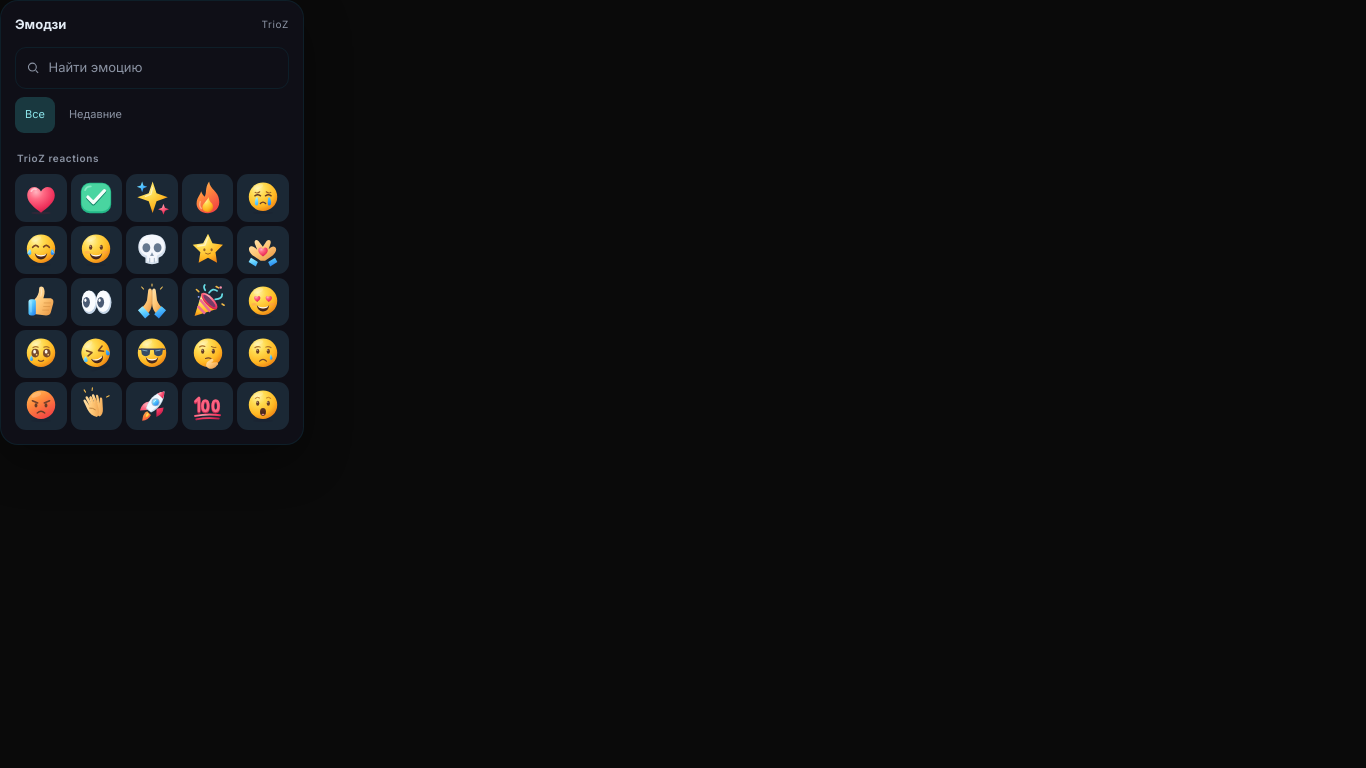
Test: shared searchable picker › can clear recents
Step 1. Click the button "Недавние" → click(95, 114), box left=59, top=96, right=132, bottom=132
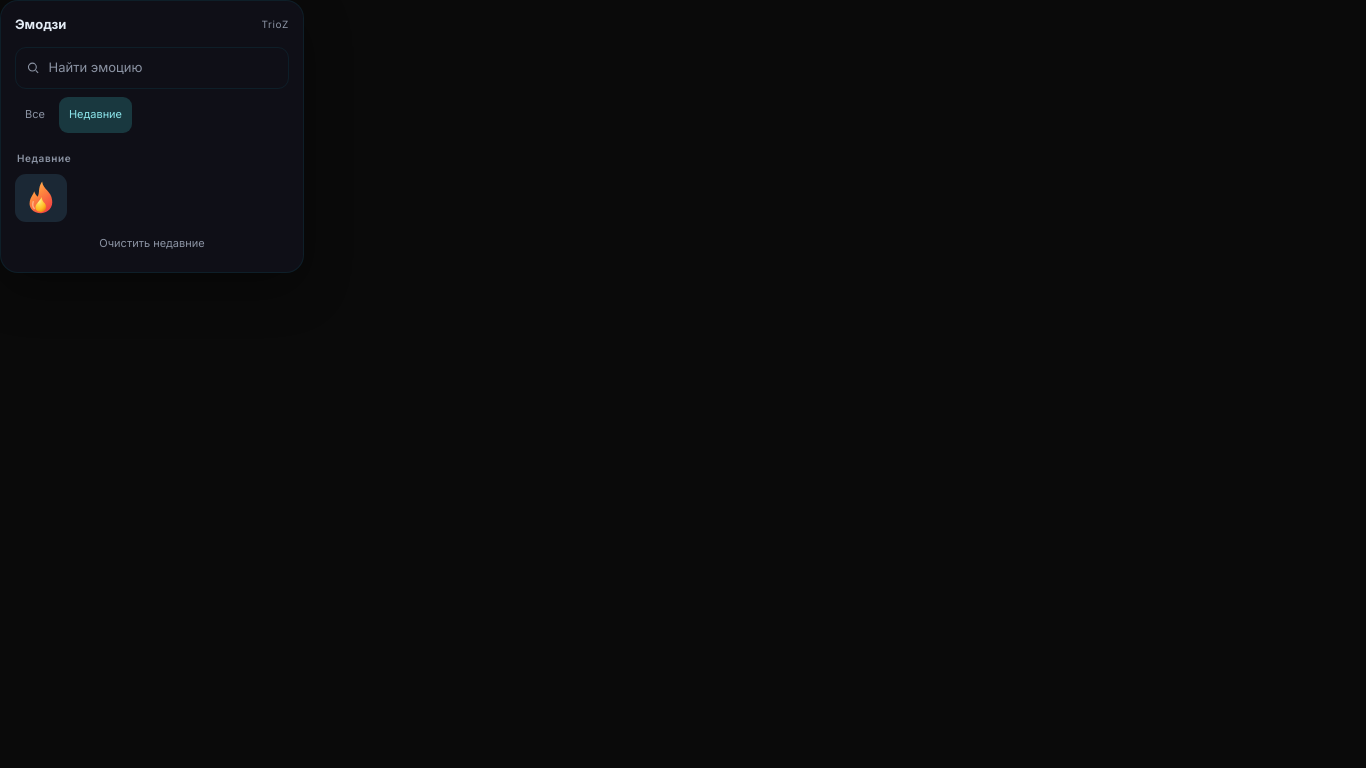
Step 2. Click the button "Очистить недавние" → click(152, 240), box left=15, top=222, right=289, bottom=258
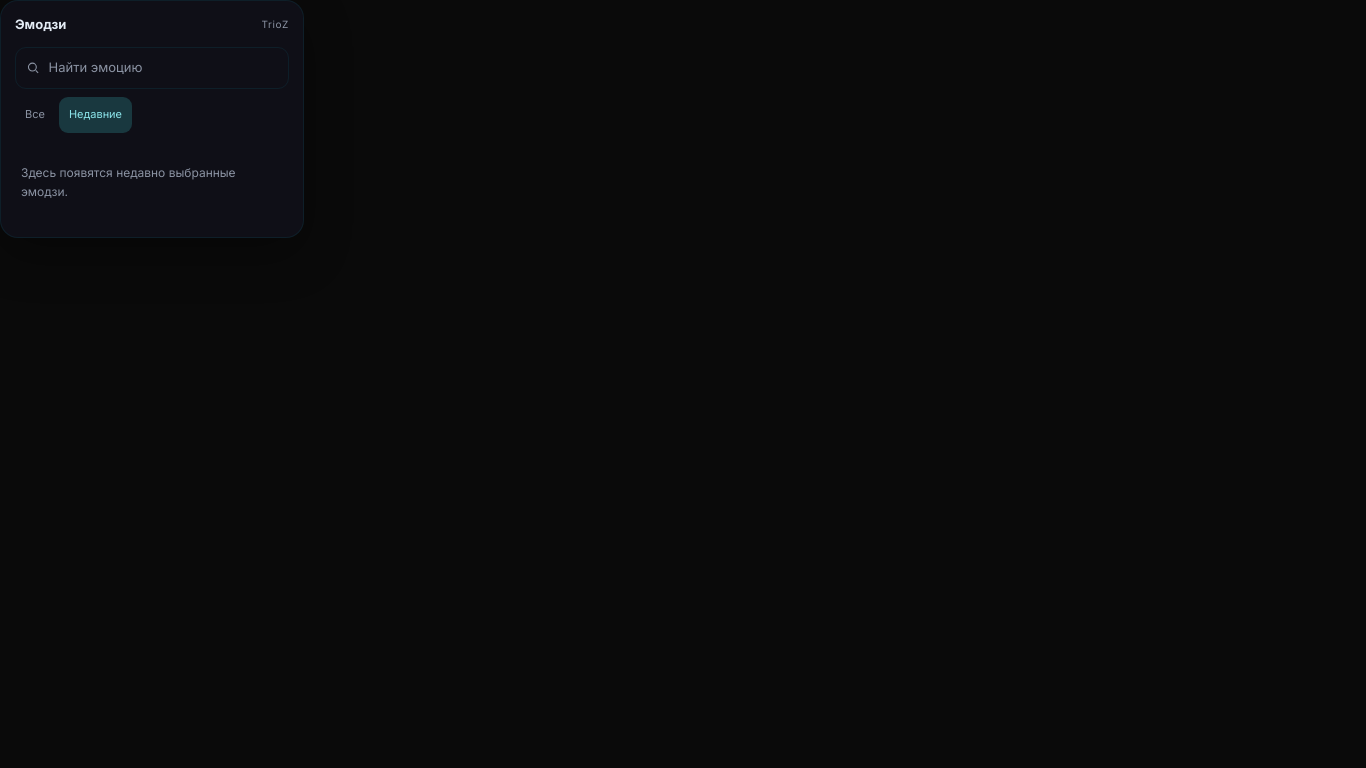
Check: the message shows "недавно выбранные", box left=21, top=164, right=236, bottom=199
